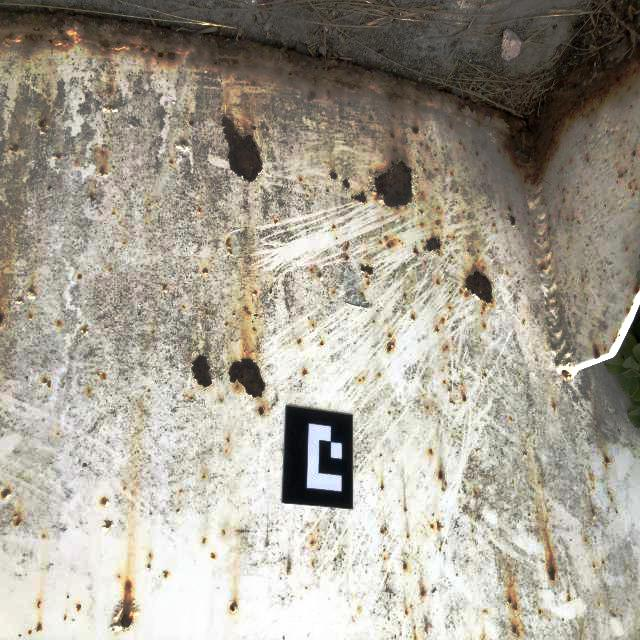Corrosion: (0, 7, 640, 206), (221, 114, 263, 185), (370, 156, 414, 211), (459, 267, 494, 314), (228, 357, 266, 399), (113, 581, 140, 631), (190, 354, 212, 388), (423, 237, 442, 256), (351, 190, 367, 205), (361, 264, 374, 276), (548, 562, 556, 581), (38, 117, 47, 132), (228, 599, 238, 612), (593, 344, 601, 360), (626, 303, 634, 317), (511, 626, 520, 638), (1, 489, 11, 499), (9, 143, 19, 153), (633, 281, 640, 295), (226, 239, 232, 254), (391, 145, 400, 155), (561, 369, 570, 379), (342, 178, 350, 189), (387, 238, 395, 249), (104, 521, 112, 532), (509, 214, 516, 226), (329, 171, 338, 180), (42, 379, 51, 388), (387, 342, 394, 353), (29, 287, 35, 299), (412, 125, 419, 135), (99, 167, 106, 177), (37, 622, 43, 633), (258, 407, 265, 416), (389, 129, 395, 139), (413, 246, 419, 256), (632, 186, 638, 196), (249, 124, 257, 131), (75, 604, 82, 612), (0, 312, 4, 326), (101, 498, 107, 506), (180, 140, 186, 148), (244, 306, 249, 315), (439, 470, 443, 481), (162, 572, 168, 579), (620, 170, 626, 177), (15, 519, 20, 527), (82, 326, 87, 334), (605, 456, 610, 464), (548, 226, 552, 235), (202, 268, 208, 274), (101, 374, 106, 381), (90, 195, 94, 203), (628, 182, 632, 190), (634, 148, 638, 156), (55, 154, 61, 159), (107, 105, 112, 111), (539, 265, 545, 270), (209, 554, 214, 560), (411, 314, 416, 320), (187, 120, 193, 125), (78, 273, 82, 280), (108, 87, 112, 94), (513, 604, 517, 611), (586, 154, 590, 161), (592, 510, 596, 517), (438, 522, 441, 531), (507, 206, 512, 211), (47, 185, 52, 190), (302, 370, 307, 375), (163, 285, 167, 291), (403, 564, 407, 570), (269, 288, 272, 295), (317, 272, 321, 277), (403, 294, 407, 299), (58, 320, 61, 326), (198, 207, 201, 213), (508, 598, 511, 604), (346, 242, 349, 248), (476, 150, 479, 156), (563, 186, 566, 192), (297, 340, 301, 344), (562, 198, 566, 202), (147, 564, 150, 569), (532, 224, 535, 229), (299, 176, 302, 181), (561, 166, 564, 171), (345, 256, 348, 260), (253, 314, 256, 317)
